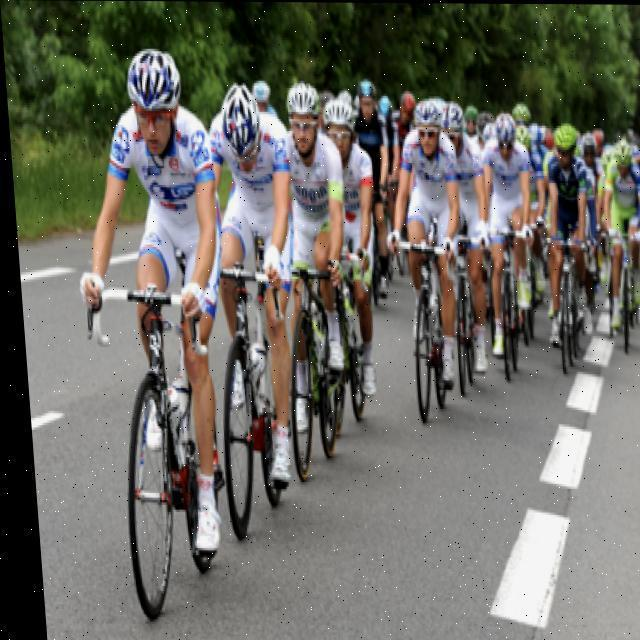Helmet: (114, 44, 188, 159), (214, 76, 267, 180), (280, 78, 330, 159), (407, 96, 446, 162), (546, 112, 580, 172), (606, 130, 638, 188), (489, 106, 521, 160)
